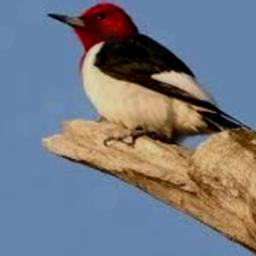Woodpecker: (47, 2, 242, 138)
